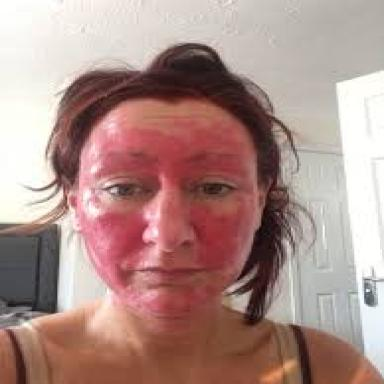burn: (71, 115, 255, 330)
